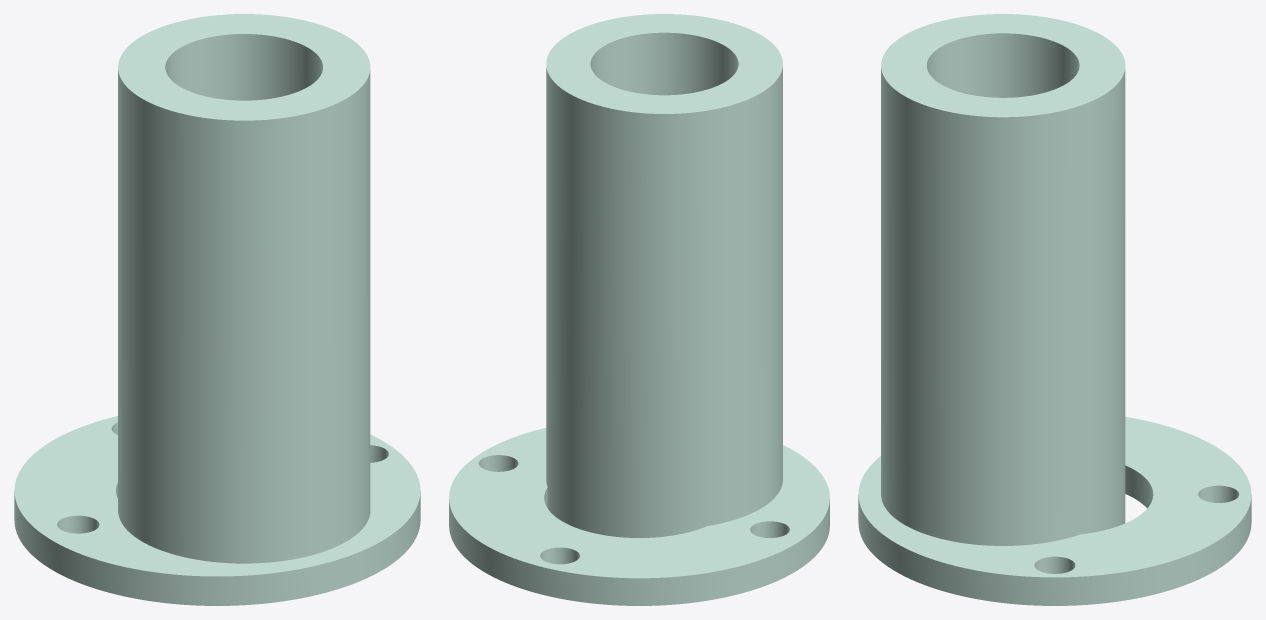
3 views of the same model, side by side, from view 1: azimuth 30°, elevation 25°; view 2: azimuth 150°, elevation 25°; view 3: azimuth 270°, elevation 25° (orthographic). The views are drawn at different scales.
Parts seen in each view (by area): view 1: Renderer Node; view 2: Renderer Node; view 3: Renderer Node.
Part boxes in pixels (x1,y1,x2,y2): Renderer Node: (14, 14, 420, 605); Renderer Node: (449, 14, 829, 605); Renderer Node: (858, 14, 1251, 605).
Bounding box in the file's own units: 0.584 × 0.75 × 0.5842.
